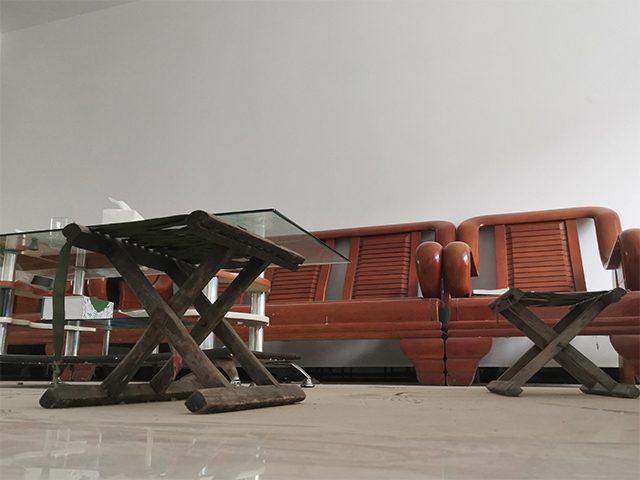stool: (37, 208, 308, 415), (445, 205, 640, 384), (329, 220, 452, 387), (485, 285, 640, 399)
table: (1, 207, 353, 389)
